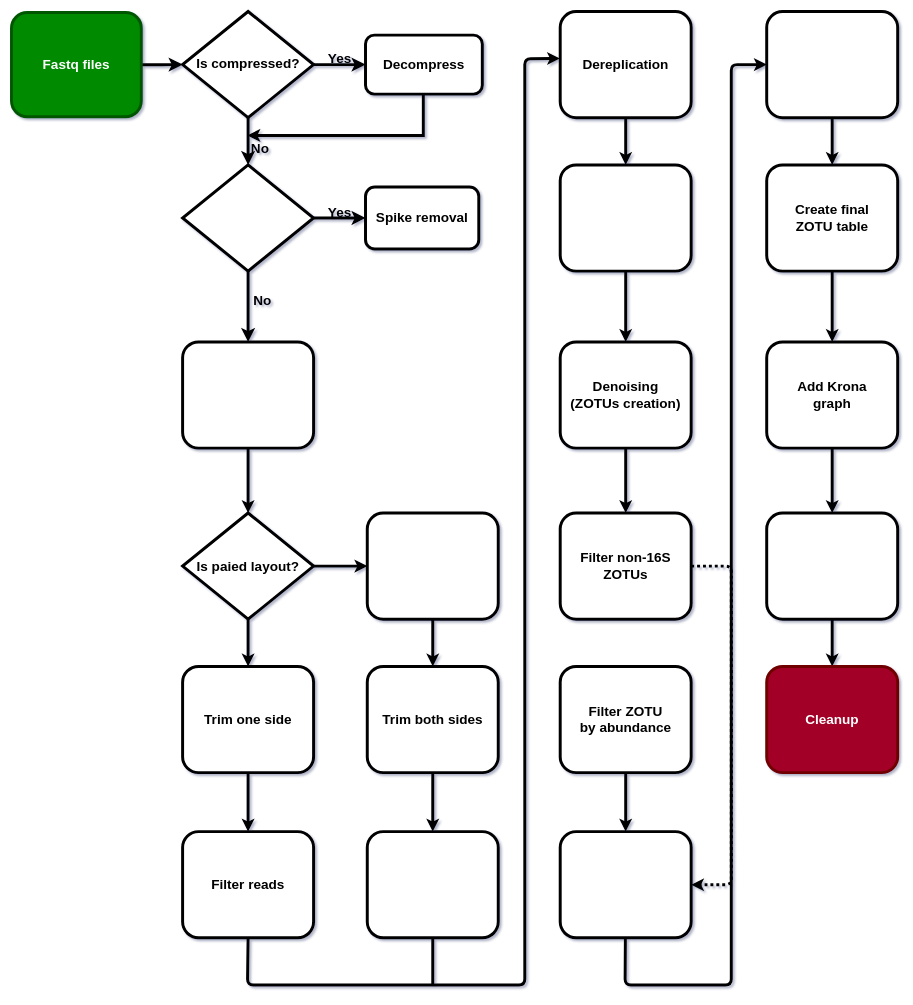
This 913x1005 diagram has some shape labels left out. Here are the shapes that lost their labels. From the top down, the centre of each, then its label:
At point 832,64: "Add taxonomy".
At point 248,217: "Is spiked?".
At point 625,217: "Sort sequences".
At point 248,394: "Run FASTQ".
At point 432,565: "Merge pairs".
At point 832,565: "Diversity metrics calculation".
At point 432,884: "Filter merged reads".
At point 625,884: "Select ZOTU sequence".
